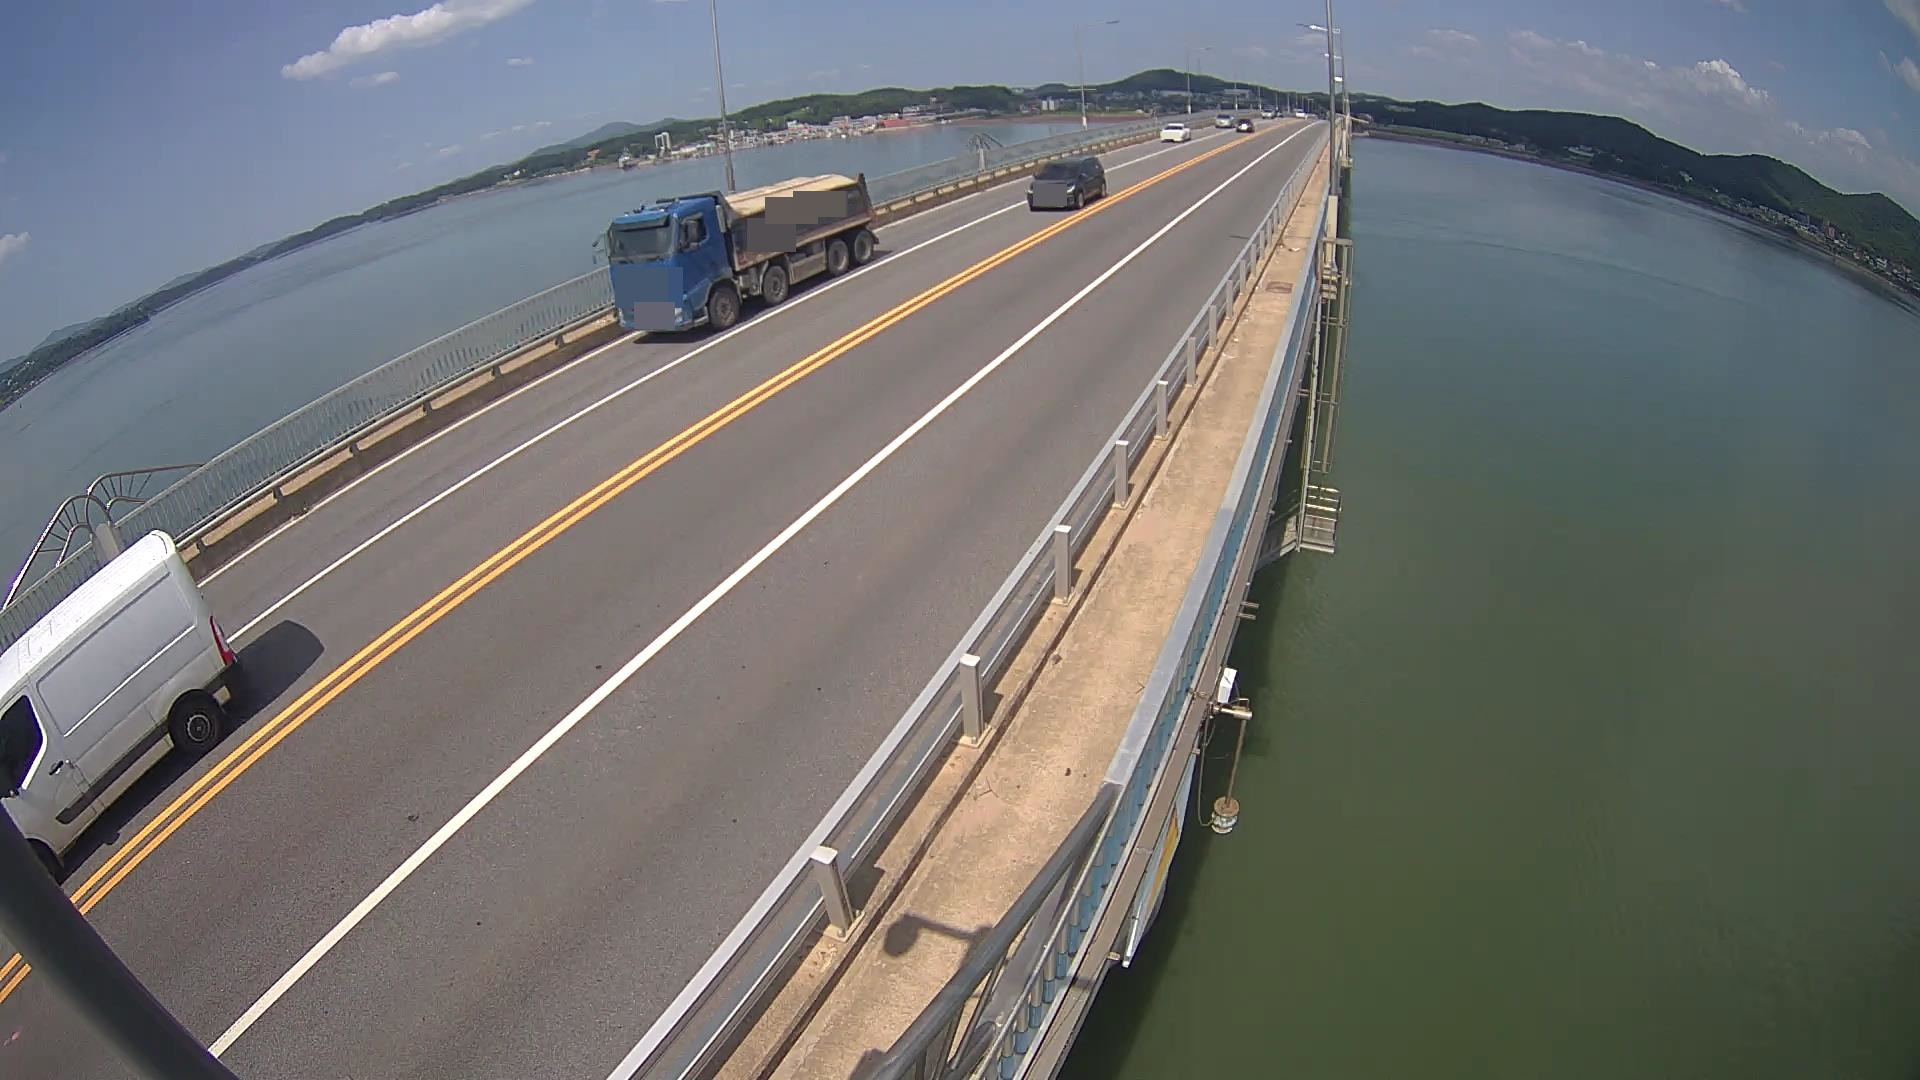정상차량: (592, 171, 880, 332)
